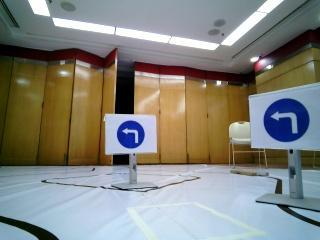left: (253, 96, 320, 151), (107, 117, 157, 152)
